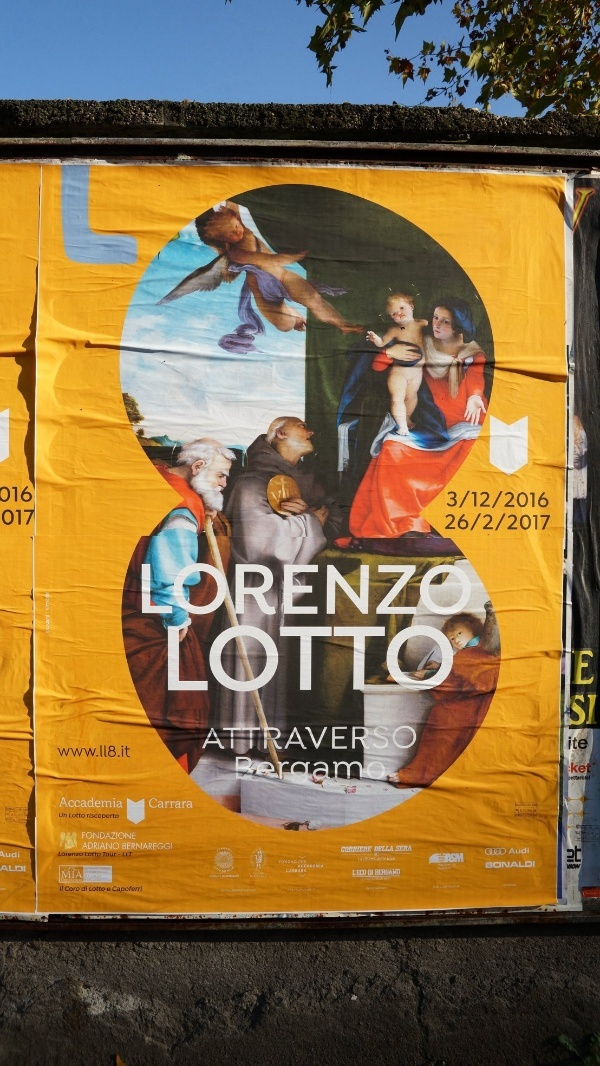text: (129, 167, 145, 270), (65, 167, 80, 270), (81, 167, 96, 270), (97, 167, 112, 270), (113, 167, 128, 270), (177, 622, 192, 695), (193, 622, 208, 695), (209, 622, 224, 695), (225, 622, 240, 695), (241, 622, 256, 695), (257, 622, 272, 695), (273, 622, 288, 695), (289, 622, 304, 695), (305, 622, 320, 695), (321, 622, 336, 695), (337, 622, 352, 695), (353, 622, 368, 695), (369, 622, 384, 695), (385, 622, 400, 695), (401, 622, 416, 695), (417, 622, 432, 695), (433, 622, 448, 695), (225, 838, 240, 900), (241, 838, 256, 900), (257, 838, 272, 900), (273, 838, 288, 900), (289, 838, 304, 900), (305, 838, 320, 900), (145, 562, 160, 616), (161, 562, 176, 616), (177, 562, 192, 616), (193, 562, 208, 616), (209, 562, 224, 616), (225, 562, 240, 616), (241, 562, 256, 616), (257, 562, 272, 616), (273, 562, 288, 616), (289, 562, 304, 616), (305, 562, 320, 616), (321, 562, 336, 616), (337, 562, 352, 616), (353, 562, 368, 616), (369, 562, 384, 616), (385, 562, 400, 616), (401, 562, 416, 616), (417, 562, 432, 616), (433, 562, 448, 616), (449, 562, 464, 616), (213, 838, 224, 900), (465, 562, 477, 616), (321, 838, 331, 900), (168, 622, 176, 695), (577, 651, 592, 685), (577, 694, 592, 726), (449, 622, 454, 695), (1, 483, 16, 504), (17, 483, 32, 504), (61, 167, 64, 270), (449, 864, 460, 890), (577, 825, 592, 844), (449, 513, 464, 531), (497, 513, 512, 531), (438, 864, 448, 890), (65, 744, 80, 761), (81, 744, 96, 761), (97, 744, 112, 761), (113, 744, 128, 761), (97, 866, 112, 883), (513, 515, 528, 532), (529, 515, 544, 532), (513, 492, 528, 509), (529, 492, 544, 509), (17, 511, 32, 528), (2, 511, 16, 528), (569, 694, 576, 726), (140, 562, 144, 616), (369, 878, 384, 892), (515, 802, 528, 818), (84, 866, 96, 883), (65, 796, 80, 809), (81, 796, 96, 809), (97, 796, 112, 809), (471, 512, 480, 532), (177, 798, 193, 809), (577, 762, 591, 774), (161, 798, 176, 809), (449, 490, 457, 510), (593, 694, 598, 726), (1, 850, 16, 860), (577, 737, 588, 750), (572, 651, 576, 685), (97, 831, 112, 840), (113, 831, 128, 840), (567, 849, 576, 864), (593, 825, 600, 844), (113, 796, 123, 809), (451, 853, 464, 863), (513, 847, 529, 855), (529, 802, 537, 818), (82, 831, 96, 840), (497, 489, 503, 510), (2, 864, 16, 873), (149, 798, 160, 809), (97, 812, 112, 820), (65, 849, 80, 857), (97, 842, 112, 850), (129, 842, 144, 850), (145, 842, 160, 850), (353, 869, 368, 877), (57, 744, 64, 761), (505, 492, 512, 509), (113, 886, 128, 893), (353, 847, 368, 854), (497, 861, 512, 868), (513, 861, 528, 868), (545, 515, 551, 532), (69, 811, 80, 820), (129, 886, 143, 893), (385, 878, 392, 892), (84, 842, 96, 850), (465, 490, 470, 509), (577, 775, 590, 782), (569, 737, 576, 750), (65, 886, 80, 892), (369, 857, 384, 863), (385, 869, 400, 875), (161, 842, 172, 850), (577, 846, 582, 863), (82, 886, 96, 892), (362, 878, 368, 892), (492, 489, 496, 510), (17, 864, 26, 873), (460, 490, 464, 509), (87, 812, 96, 820), (401, 846, 413, 852), (465, 513, 469, 531), (86, 850, 96, 857), (342, 847, 352, 854), (486, 861, 496, 868), (593, 651, 595, 685), (508, 515, 512, 532), (545, 492, 549, 509), (385, 857, 396, 863), (375, 846, 384, 853), (385, 846, 394, 853), (358, 857, 368, 863), (571, 762, 576, 774), (113, 842, 120, 850), (129, 831, 135, 840), (103, 852, 112, 858), (97, 886, 106, 892), (375, 869, 384, 875), (567, 865, 576, 871), (113, 812, 119, 820), (122, 842, 128, 850), (529, 861, 535, 868), (33, 483, 35, 504), (59, 849, 64, 857), (90, 886, 96, 892), (446, 513, 448, 531), (123, 851, 128, 858), (571, 775, 576, 782), (504, 884, 512, 888), (17, 850, 20, 860), (60, 811, 64, 818), (97, 850, 101, 857), (129, 851, 133, 858), (369, 847, 373, 854), (369, 869, 373, 876), (81, 811, 84, 820), (108, 887, 112, 893), (61, 885, 64, 892), (118, 854, 128, 856), (575, 825, 576, 844), (113, 852, 116, 858), (397, 846, 400, 852), (577, 865, 580, 871), (129, 744, 130, 761), (575, 846, 576, 863), (33, 511, 34, 528), (81, 849, 83, 857), (65, 811, 67, 818), (63, 796, 64, 809), (511, 847, 512, 855), (513, 884, 515, 888)
